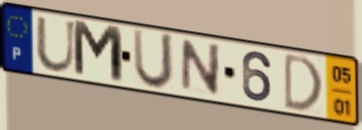6: (240, 50, 275, 105)
D: (282, 51, 325, 113)
M: (70, 18, 127, 87)
N: (179, 38, 223, 99)
U: (131, 26, 176, 93), (33, 15, 79, 75)
